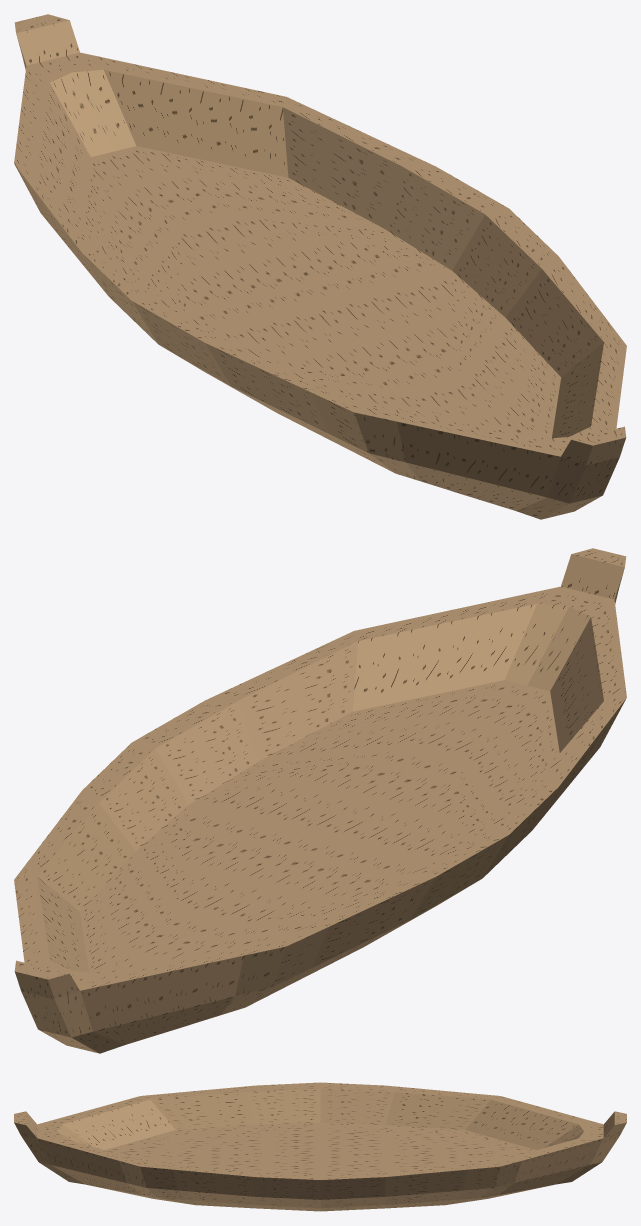
The model's file is Barca.glb.
3 views of the same model, one above another, from view 1: azimuth 30°, elevation 25°; view 2: azimuth 150°, elevation 25°; view 3: azimuth 270°, elevation 25° (orthographic). The views are drawn at different scales.
Visible parts, largest first — view 1: Cube.001; view 2: Cube.001; view 3: Cube.001.
Boxes of the visible parts, <box> form: Cube.001: <box>14,14,626,519</box>; Cube.001: <box>14,548,626,1053</box>; Cube.001: <box>14,1082,626,1211</box>.
Bounding box in the file's own units: 5.25 × 1.85 × 13.93.
Materials: 1 (1 with a texture image).
